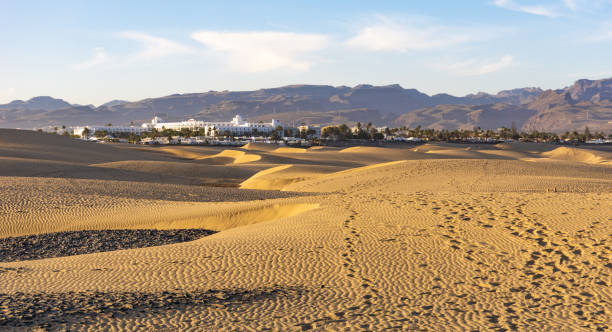human_foot_print: (418, 199, 610, 331), (305, 201, 387, 329), (390, 229, 469, 331)
